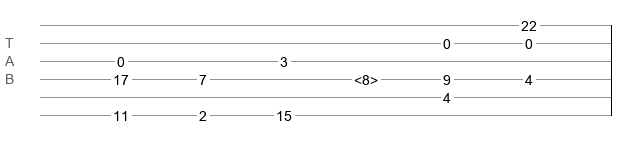0: (117, 54, 125, 64), (443, 36, 451, 46), (525, 36, 533, 46)
11: (113, 108, 129, 118)
15: (276, 108, 292, 118)
17: (113, 72, 129, 82)
2: (199, 108, 207, 118)
22: (521, 18, 537, 28)
3: (280, 54, 288, 64)
4: (443, 90, 451, 100), (525, 72, 533, 82)
7: (199, 72, 207, 82)
9: (443, 72, 451, 82)
harmonic: (354, 72, 378, 82)
